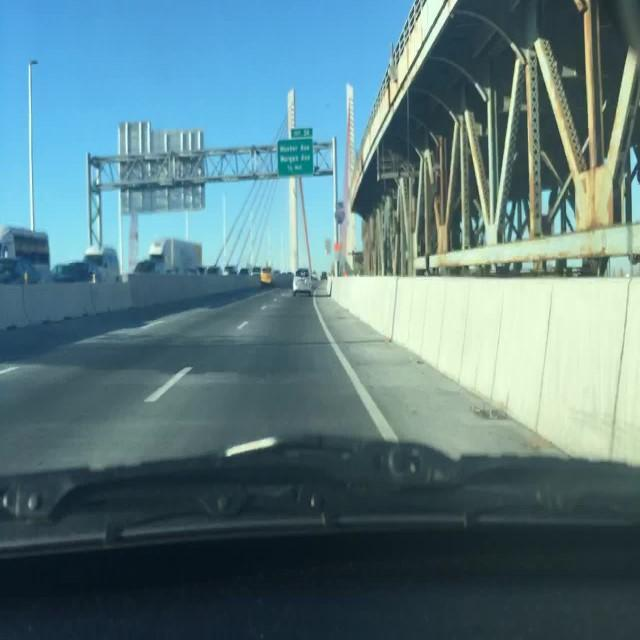normal: (279, 238, 353, 306)
